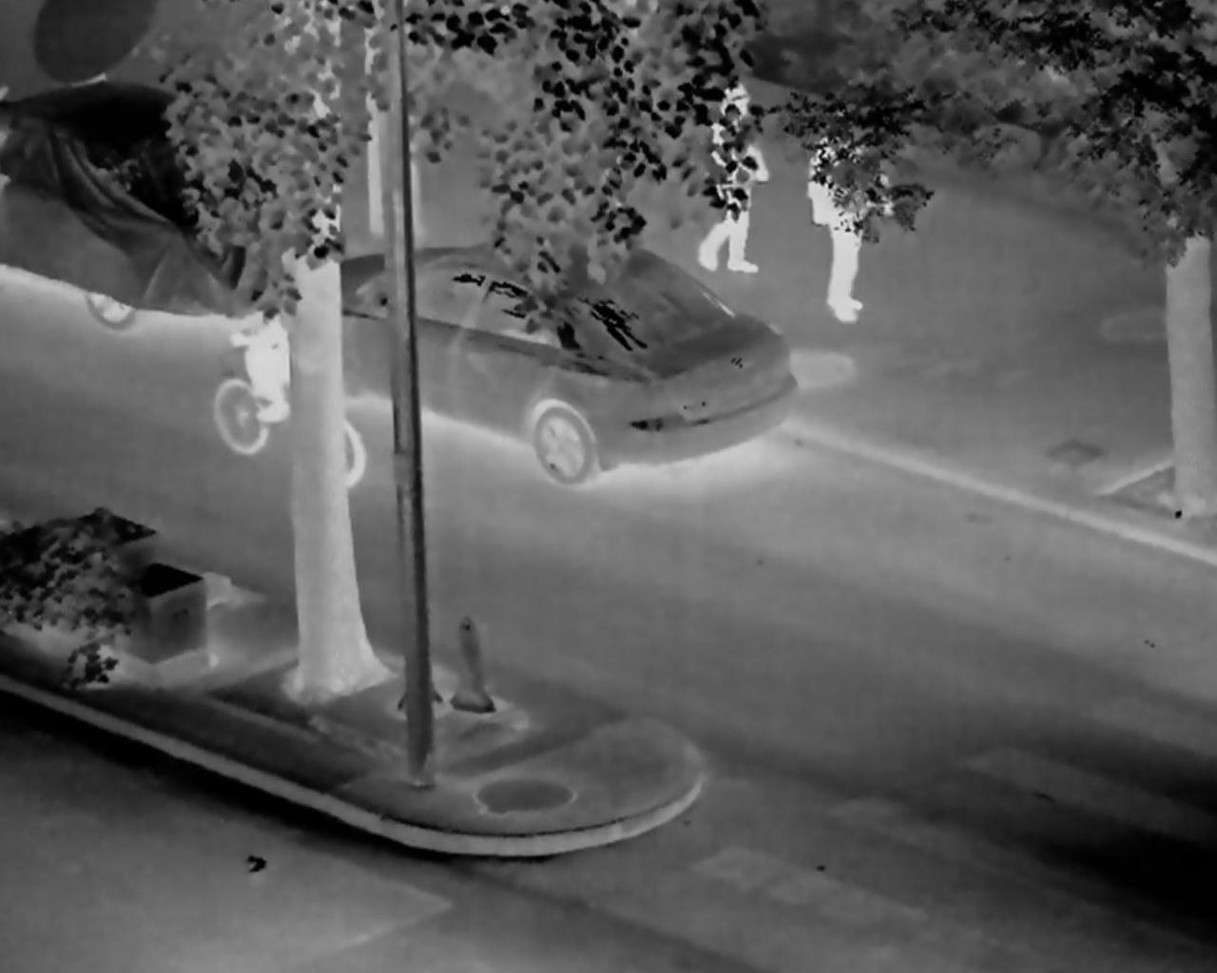person: (807, 106, 896, 321), (232, 285, 331, 426), (700, 77, 768, 277)
